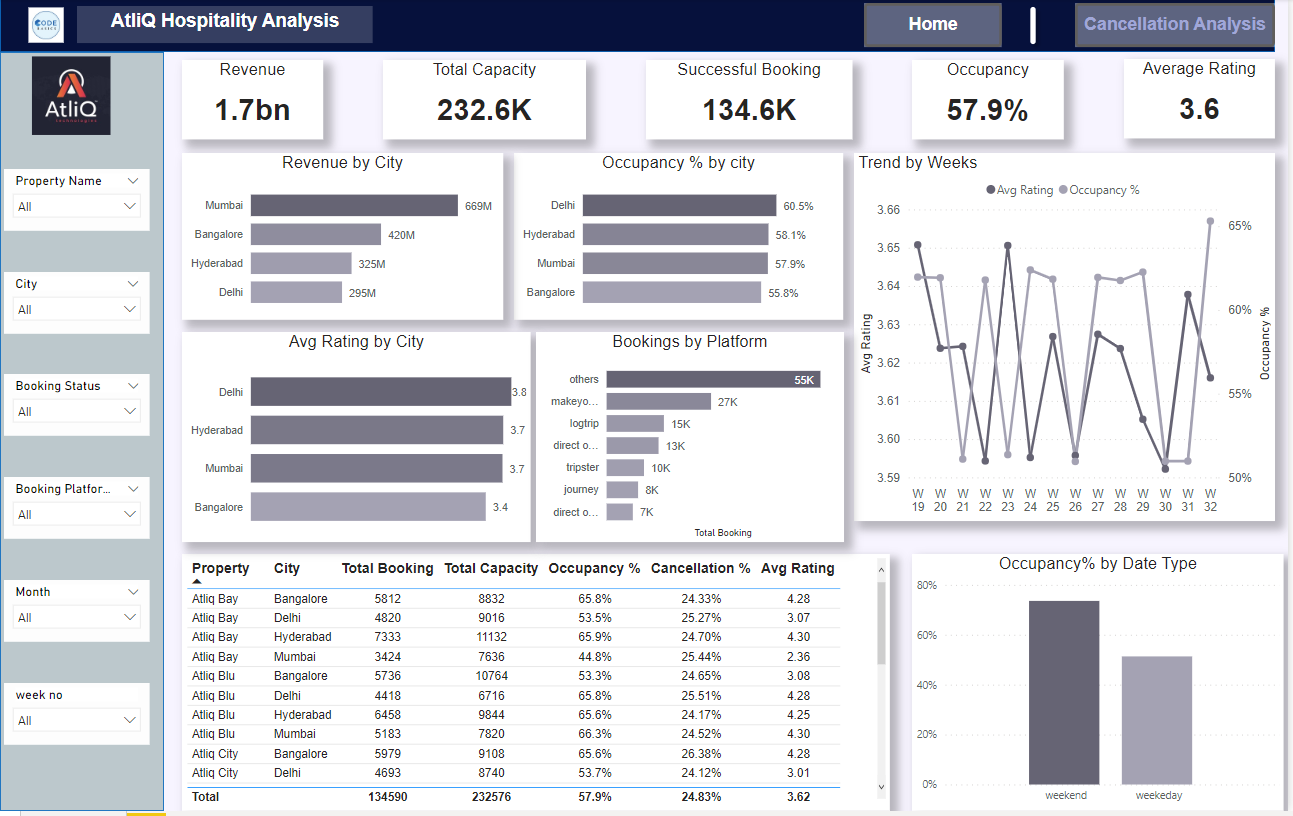

What the dashboard file says about the page in this screenshot:
{"tool":"powerbi","page":{"name":"Overall","canvas":[1460,920],"ordinal":0},"visuals":[{"type":"shape","box":[0,60,185.8,860],"z":0},{"type":"card","title":"Revenue ","fields":{"Values":["measure.revenue"]},"box":[206.2,69.1,159.8,89.5],"z":1000},{"type":"card","title":"Total Capacity","fields":{"Values":["measure.Total Capacity"]},"box":[433.9,68.8,229.9,90],"z":2000},{"type":"card","title":"Successful Booking","fields":{"Values":["measure.Total Succesful Booking"]},"box":[731.8,68.8,233.8,90],"z":3000},{"type":"card","title":"Occupancy","fields":{"Values":["measure.Occupancy %"]},"box":[1033.6,68.8,171.9,90],"z":4000},{"type":"card","title":"Average Rating ","fields":{"Values":["measure.Avg Rating"]},"box":[1273.5,68,171.1,89.5],"z":5000},{"type":"barChart","fields":{"Y":["measure.Occupancy %"],"Category":["dim_hotels.city"]},"box":[582.4,174.5,372.8,189.2],"z":6000},{"type":"barChart","title":"Revenue by City","fields":{"Y":["measure.revenue"],"Category":["dim_hotels.city"]},"box":[206.2,174.5,363.7,189.2],"z":7000},{"type":"lineChart","title":"Trend by Weeks ","fields":{"Category":["dim_date.week no"],"Y":["measure.Avg Rating"],"Y2":["measure.Occupancy %"]},"box":[967.6,174.5,477,416.9],"z":8000},{"type":"tableEx","fields":{"Values":["dim_hotels.property_name","dim_hotels.city","measure.Total Booking","measure.Total Capacity","measure.Occupancy %","measure.Cancellation %","measure.Avg Rating"]},"box":[206.2,628.8,802.2,291.2],"z":9000},{"type":"slicer","fields":{"Values":["dim_hotels.property_name"]},"box":[4.5,192.6,165,70],"z":10000},{"type":"slicer","title":"City","fields":{"Values":["dim_hotels.city"]},"box":[4.5,308.9,165,70],"z":11000},{"type":"slicer","fields":{"Values":["fact_bookings.booking_status"]},"box":[4.5,425.3,165.4,70.2],"z":12000},{"type":"slicer","fields":{"Values":["fact_bookings.booking_platform"]},"box":[4.5,541.8,165.4,70.2],"z":13000},{"type":"slicer","fields":{"Values":["dim_date.Month"]},"box":[4.5,658.4,165.4,70.2],"z":14000},{"type":"slicer","fields":{"Values":["dim_date.week no"]},"box":[4.5,775,165,70],"z":15000},{"type":"shape","box":[0,0,1444.6,60],"z":16000},{"type":"barChart","title":"Avg Rating by City","fields":{"Y":["measure.Avg Rating"],"Category":["dim_hotels.city"]},"box":[206.2,377.3,395.4,237.9],"z":17000},{"type":"barChart","title":"Bookings by Platform","fields":{"Y":["measure.Total Booking"],"Category":["fact_bookings.booking_platform"]},"box":[607.3,377.3,349,237.9],"z":18000},{"type":"lineStackedColumnComboChart","title":"Occupancy% by Date Type","fields":{"Category":["dim_date.day_type"],"Y":["measure.Occupancy %"]},"box":[1033.3,628.8,421.5,291.2],"z":19000},{"type":"image","box":[10.2,4.5,82.7,49.9],"z":20000},{"type":"textbox","box":[87.2,7.9,335.4,41.9],"z":21000},{"type":"image","box":[10.2,60,140.5,98.6],"z":22000},{"type":"actionButton","title":"Home","box":[978.9,4.5,156.4,49.9],"z":23000},{"type":"shape","box":[1135.3,0,70.2,60],"z":24000},{"type":"actionButton","title":"Home","box":[1218,4.5,226.6,49.9],"z":25000}]}

Visuals, with their boxes in screenshot pixels (x1, y1, x2, y2), scaled from the page's 1460x920 canvas onto the 1293x816 screenshot:
shape: left=0, top=53, right=165, bottom=815
"Revenue " card: left=183, top=61, right=324, bottom=141
"Total Capacity" card: left=384, top=61, right=588, bottom=141
"Successful Booking" card: left=648, top=61, right=855, bottom=141
"Occupancy" card: left=915, top=61, right=1068, bottom=141
"Average Rating " card: left=1128, top=60, right=1279, bottom=140
barChart - measure.Occupancy % x dim_hotels.city: left=516, top=155, right=846, bottom=323
"Revenue by City" barChart: left=183, top=155, right=505, bottom=323
"Trend by Weeks " lineChart: left=857, top=155, right=1279, bottom=525
tableEx - dim_hotels.property_name x dim_hotels.city: left=183, top=558, right=893, bottom=815
slicer - dim_hotels.property_name: left=4, top=171, right=150, bottom=233
"City" slicer: left=4, top=274, right=150, bottom=336
slicer - fact_bookings.booking_status: left=4, top=377, right=150, bottom=439
slicer - fact_bookings.booking_platform: left=4, top=481, right=150, bottom=543
slicer - dim_date.Month: left=4, top=584, right=150, bottom=646
slicer - dim_date.week no: left=4, top=687, right=150, bottom=749
shape: left=0, top=0, right=1279, bottom=53
"Avg Rating by City" barChart: left=183, top=335, right=533, bottom=546
"Bookings by Platform" barChart: left=538, top=335, right=847, bottom=546
"Occupancy% by Date Type" lineStackedColumnComboChart: left=915, top=558, right=1288, bottom=815
image: left=9, top=4, right=82, bottom=48
textbox: left=77, top=7, right=374, bottom=44
image: left=9, top=53, right=133, bottom=141
"Home" actionButton: left=867, top=4, right=1005, bottom=48
shape: left=1005, top=0, right=1068, bottom=53
"Home" actionButton: left=1079, top=4, right=1279, bottom=48
